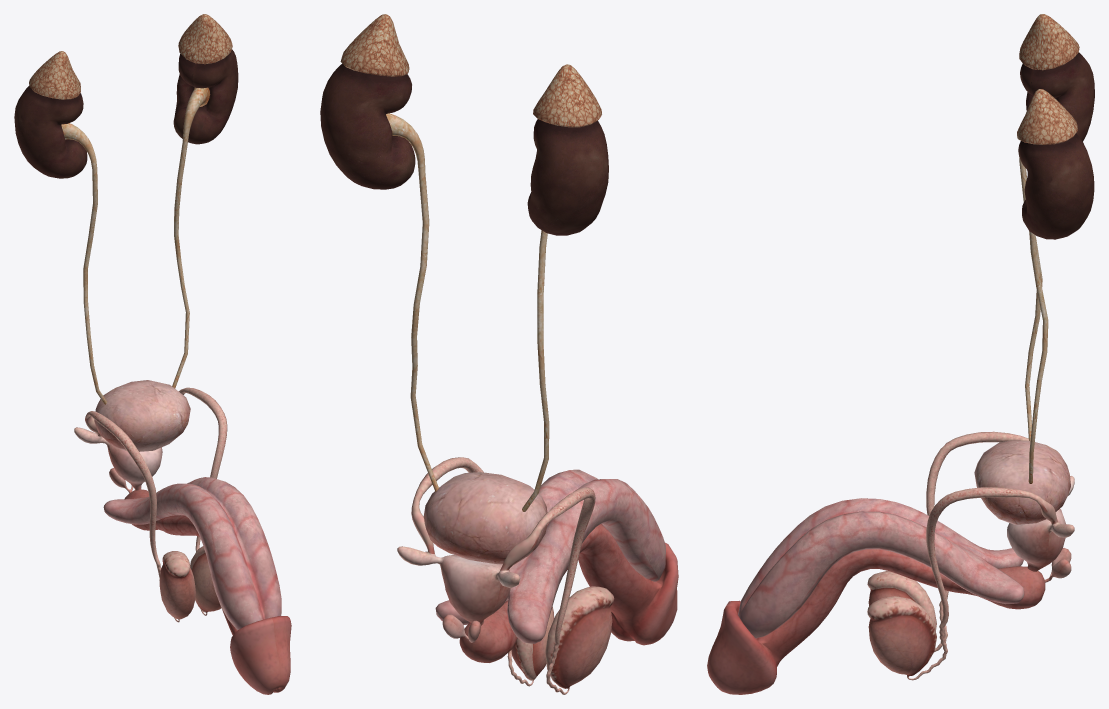
The model's file is Urinary System Turbosquid.FBX.
The picture shows the model from 3 angles, left to right: view 1: azimuth 30°, elevation 25°; view 2: azimuth 150°, elevation 25°; view 3: azimuth 270°, elevation 25°; orthographic projection. The views are drawn at different scales.
Parts seen in each view (by area): view 1: Object001, UrinarySystem, Object004, Object002, Object003; view 2: Object001, Object002, Object004, UrinarySystem, Object003; view 3: Object001, Object002, Object004, UrinarySystem, Object003.
Part boxes in pixels (box(x1,y1,x2,y2)): Object001: box(103, 477, 291, 694); UrinarySystem: box(14, 51, 107, 404); Object004: box(172, 14, 238, 388); Object002: box(74, 387, 227, 622); Object003: box(94, 380, 190, 451); Object001: box(435, 469, 678, 662); Object002: box(397, 457, 614, 694); Object004: box(320, 14, 438, 491); UrinarySystem: box(522, 64, 608, 511); Object003: box(423, 472, 547, 564); Object001: box(707, 498, 1045, 694); Object002: box(867, 431, 1074, 680); Object004: box(1017, 89, 1094, 483); UrinarySystem: box(1019, 14, 1094, 440); Object003: box(974, 440, 1070, 524).
Bounding box in the file's own units: 6.71 × 9.1 × 16.6.
